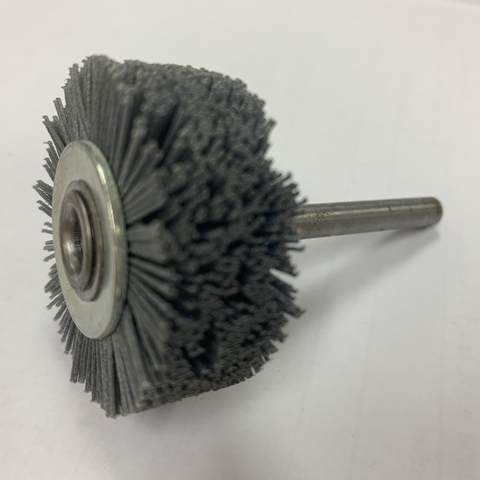Wheel Brush: (28, 47, 460, 419), (15, 65, 415, 397), (42, 27, 377, 418)
